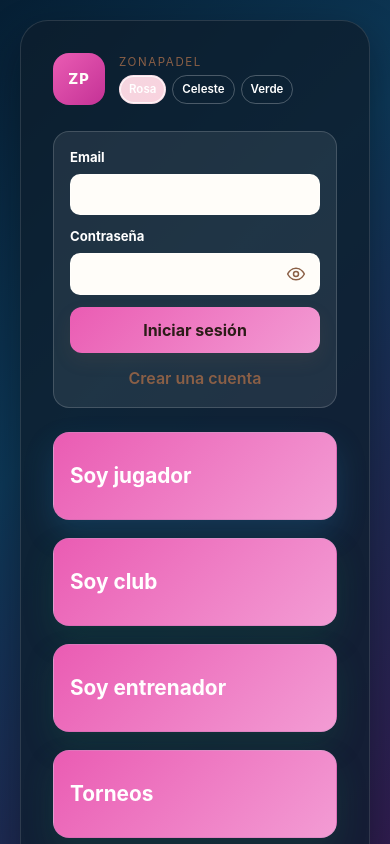
Test: App › allows the club to edit the individual court price
The width and height of the screenshot is (390, 844).
Click the button "Soy club" at (114, 582), box [53,538,337,626]
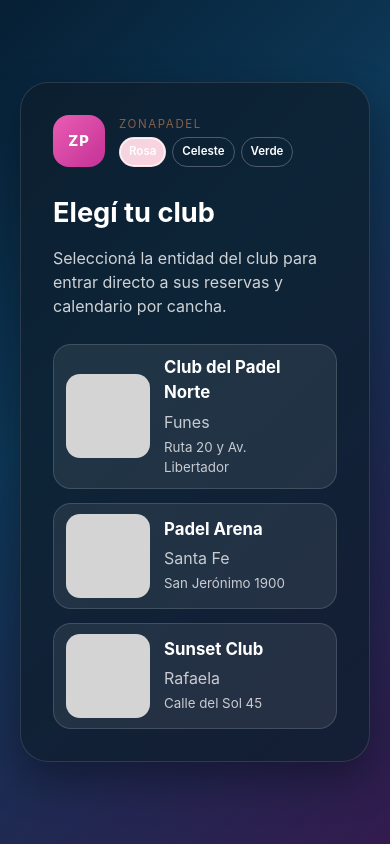
Click the button "Club del Padel Norte Funes Ruta 20 y Av. Libertador" at (195, 416), box [53,344,337,488]
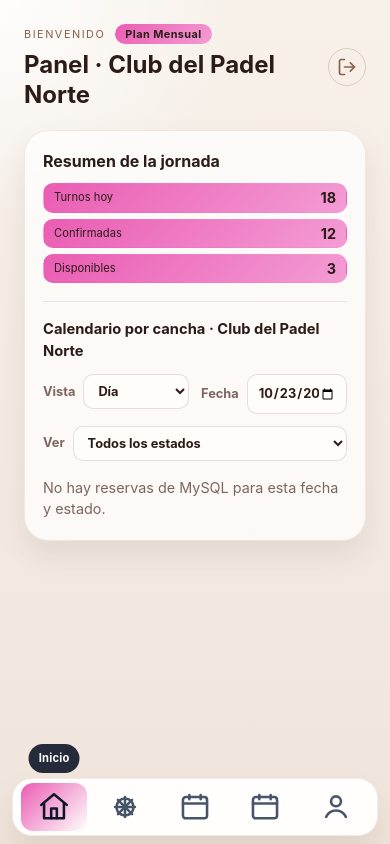
Click the button named "Canchas" at (125, 807), box [91,783,158,831]
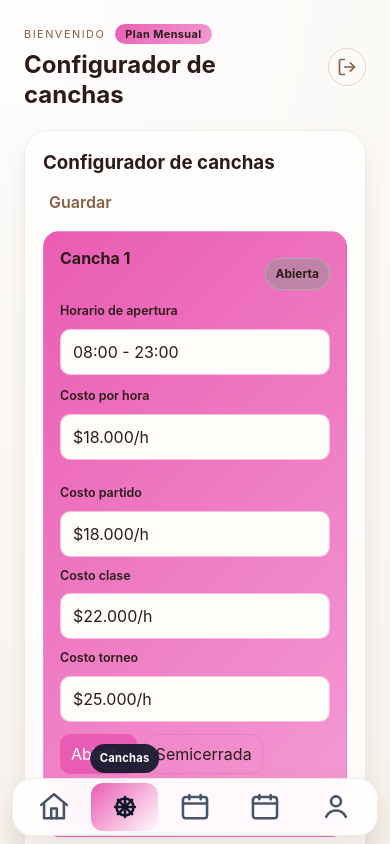
Replace the text in the field labelled "Costo por hora" with "30000" at (195, 437), box [60,414,330,460]
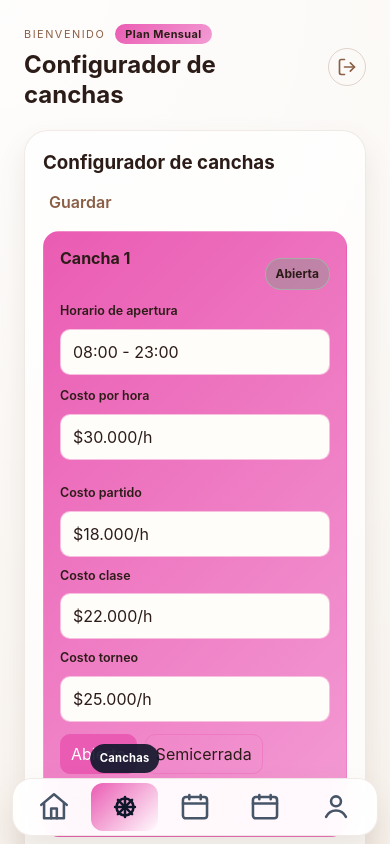
Now the field labelled "Costo por hora" holds "$30.000/h", box [60,414,330,460]
